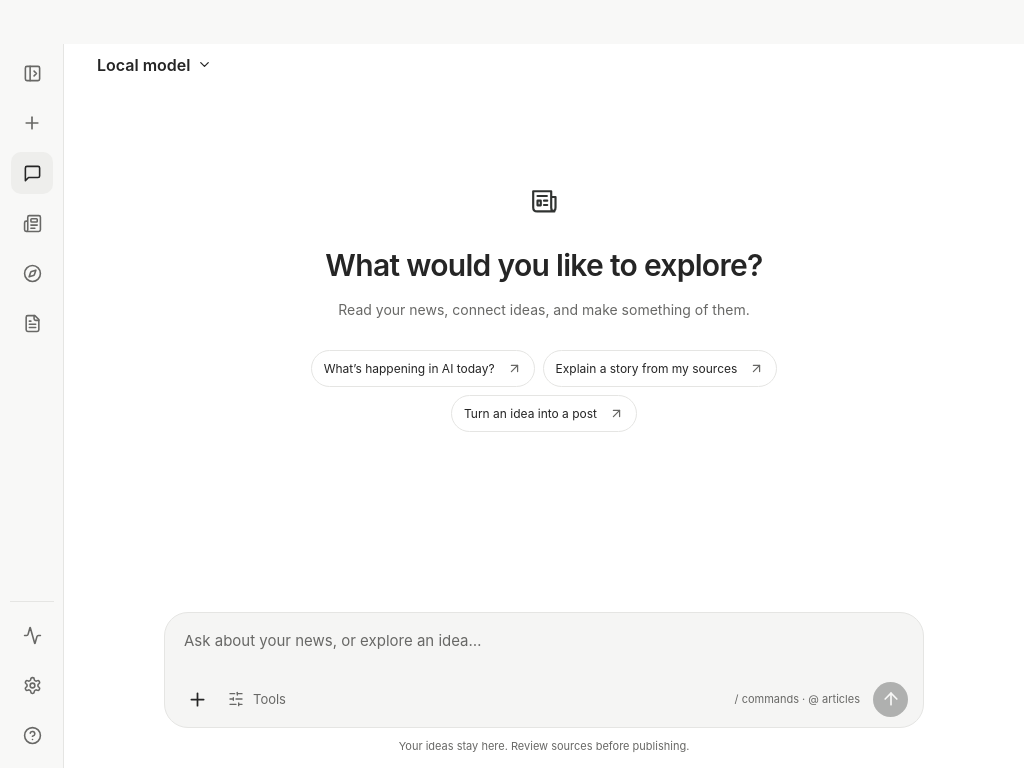
Test: keeps writing and restores focus when the sidebar is toggled from the rail or keyboard
The width and height of the screenshot is (1024, 768).
Expected: the button with aria-label "Choose model" reads "Local model", [88,48,222,82]
Type "Keep this writing while navigating" into the text box named "Message" at (544, 654), box [180,628,908,680]
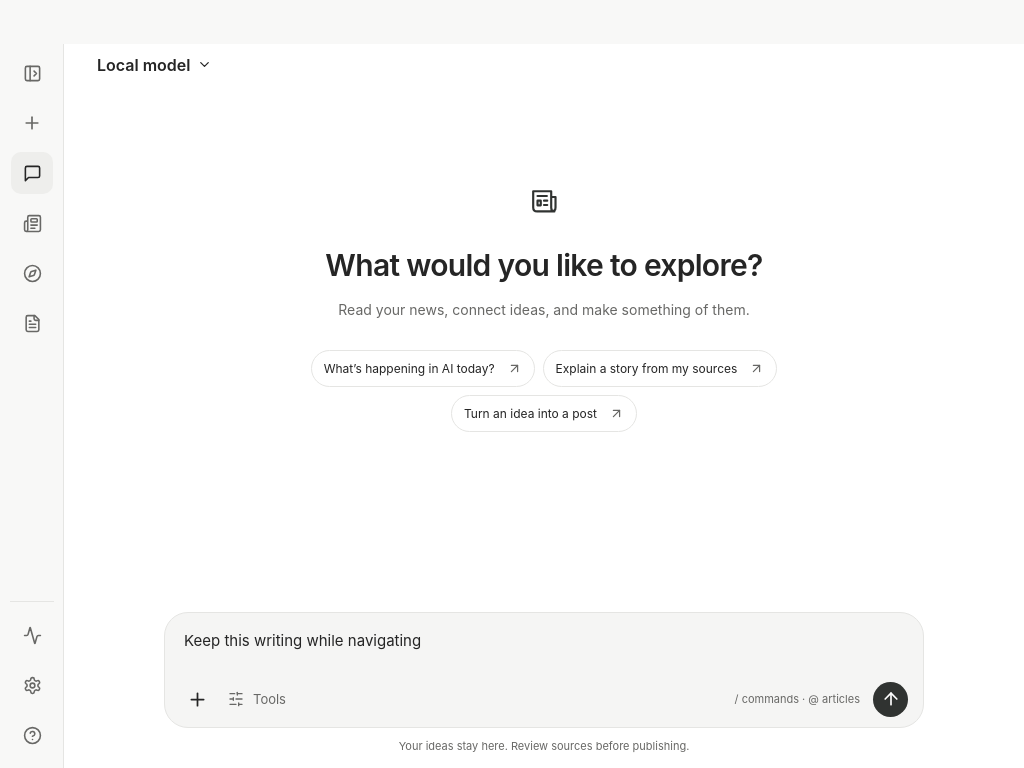
Click the button named "Show sidebar" at (32, 73), box [11,52,53,94]
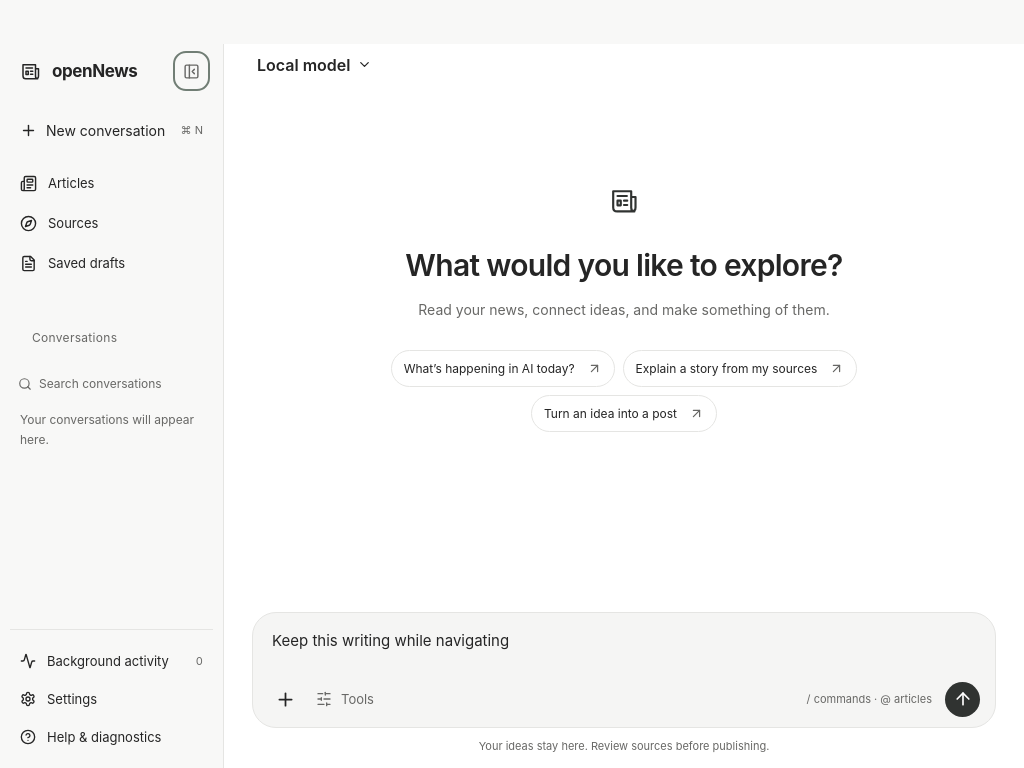
Press b
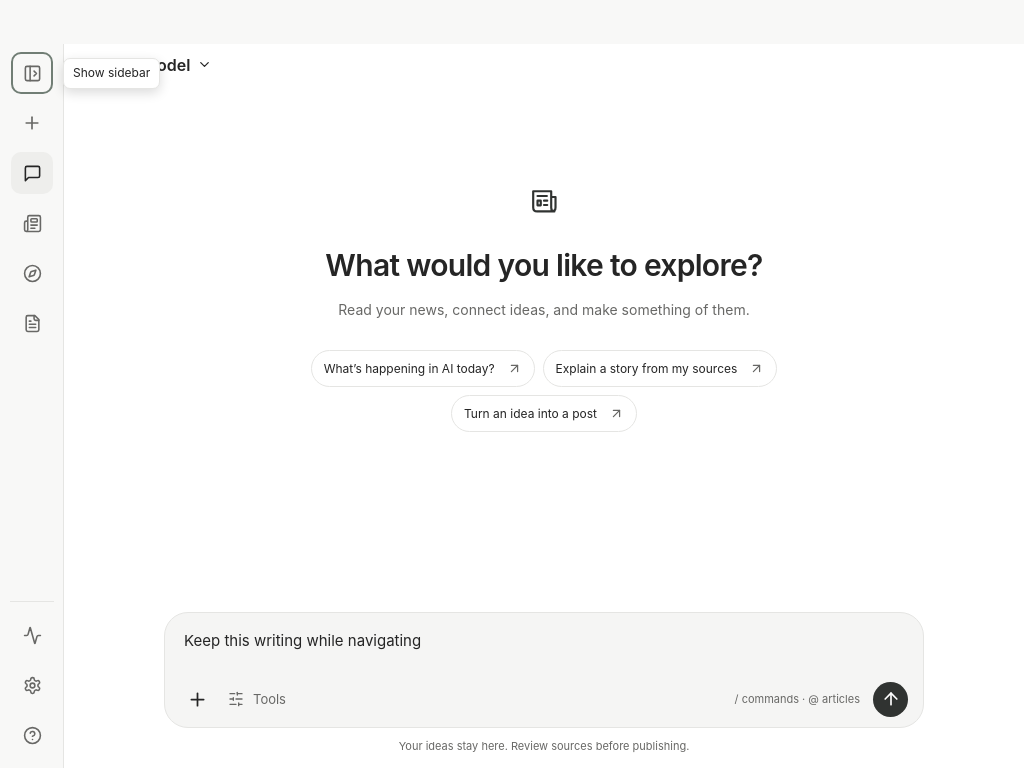
Result: the number of buttons named "Articles" is 1 at [11,202,53,244]
